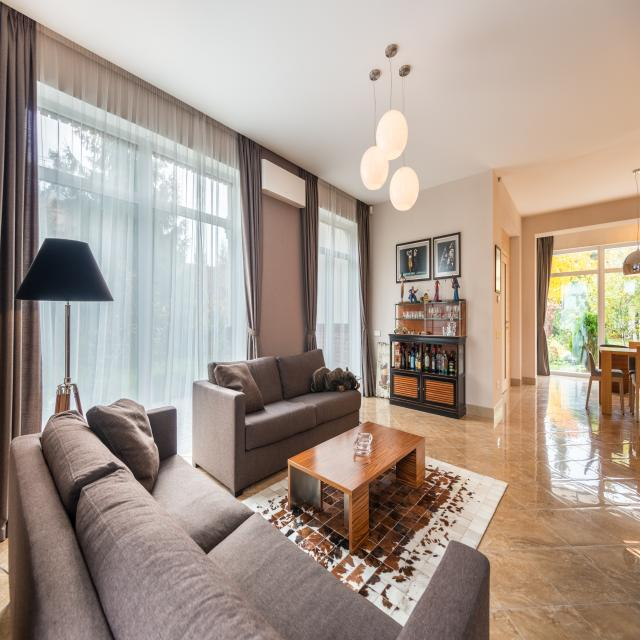floor: (359, 374, 640, 640), (236, 466, 288, 502), (196, 466, 230, 493)
wall: (368, 169, 493, 373), (522, 197, 640, 385), (259, 193, 308, 357), (493, 169, 523, 419), (456, 224, 494, 419), (553, 223, 640, 251), (403, 238, 437, 302), (511, 236, 521, 386), (261, 146, 301, 178), (535, 234, 537, 385), (445, 278, 455, 300), (438, 279, 445, 300)
